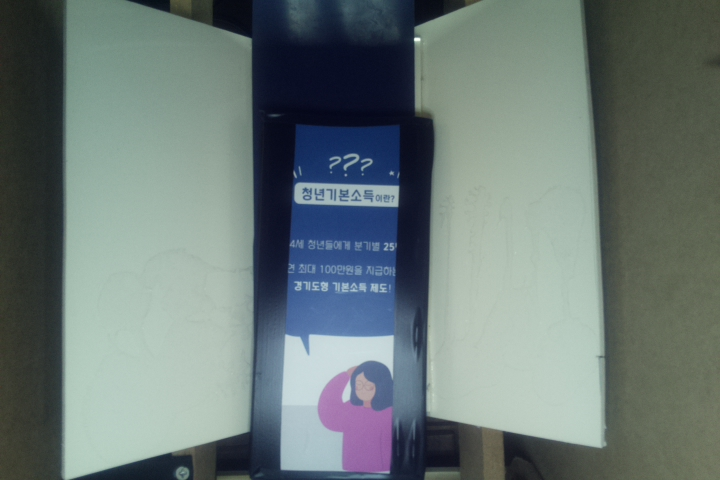book: (251, 109, 438, 480)
